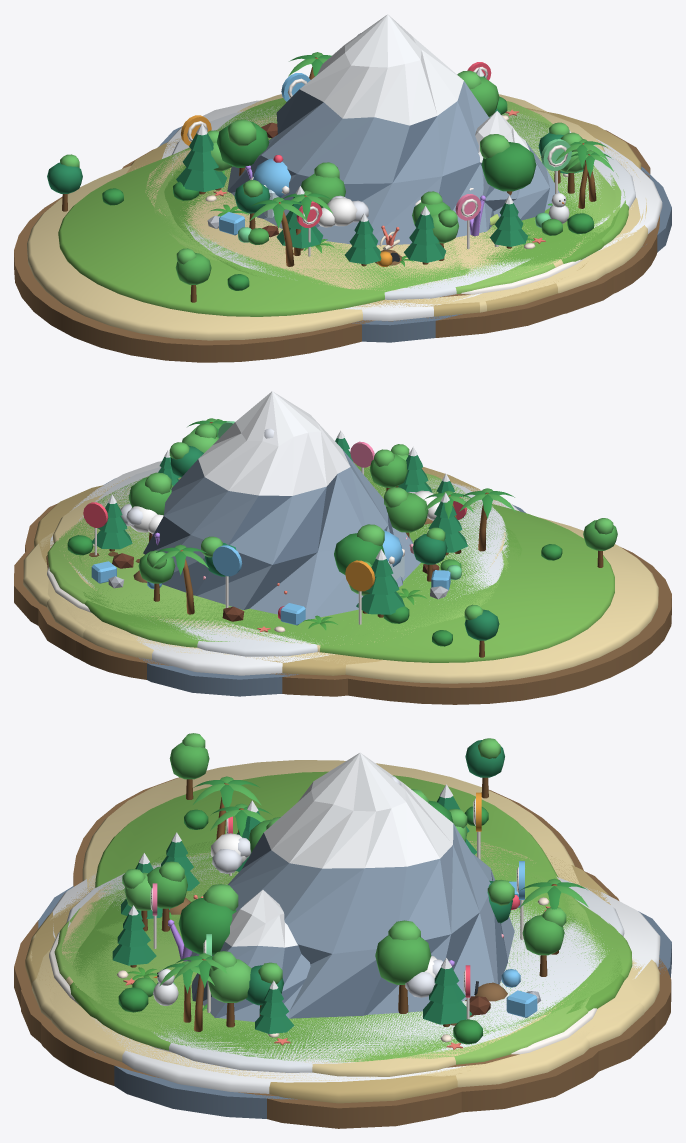
The model's file is ilhas-do-anel.glb.
The picture shows the model from 3 angles, top to bottom: view 1: azimuth 30°, elevation 25°; view 2: azimuth 150°, elevation 25°; view 3: azimuth 270°, elevation 25°; orthographic projection. The views are drawn at different scales.
Parts seen in each view (by area): view 1: bosque, pico, recife, vale-dos-dinos, vila-doce, nuvens; view 2: bosque, pico, vila-doce, recife, vale-dos-dinos, nuvens; view 3: pico, bosque, vale-dos-dinos, recife, nuvens, vila-doce.
Part boxes in pixels (<box>): bosque: <box>14,70,659,362</box>; pico: <box>158,14,671,342</box>; recife: <box>122,52,650,337</box>; vale-dos-dinos: <box>164,33,647,313</box>; vila-doce: <box>169,62,640,333</box>; nuvens: <box>154,101,615,297</box>; bosque: <box>66,442,671,704</box>; pico: <box>50,391,525,696</box>; vila-doce: <box>14,421,508,656</box>; recife: <box>25,419,505,696</box>; vale-dos-dinos: <box>38,418,521,657</box>; nuvens: <box>46,423,499,641</box>; pico: <box>38,752,671,1118</box>; bosque: <box>41,733,671,1096</box>; vale-dos-dinos: <box>21,776,655,1077</box>; recife: <box>14,803,619,1128</box>; nuvens: <box>58,808,598,1067</box>; vila-doce: <box>14,792,608,1112</box>.
Bounding box in the file's own units: 38.04 × 17.6 × 30.49.
